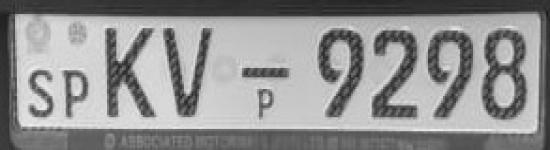-: (238, 59, 292, 91)
2: (368, 22, 422, 124)
8: (476, 22, 529, 126)
9: (314, 22, 368, 125), (422, 23, 476, 124)
K: (100, 19, 158, 123)
P: (60, 63, 92, 123)
S: (24, 61, 56, 122)
V: (158, 19, 219, 124)
